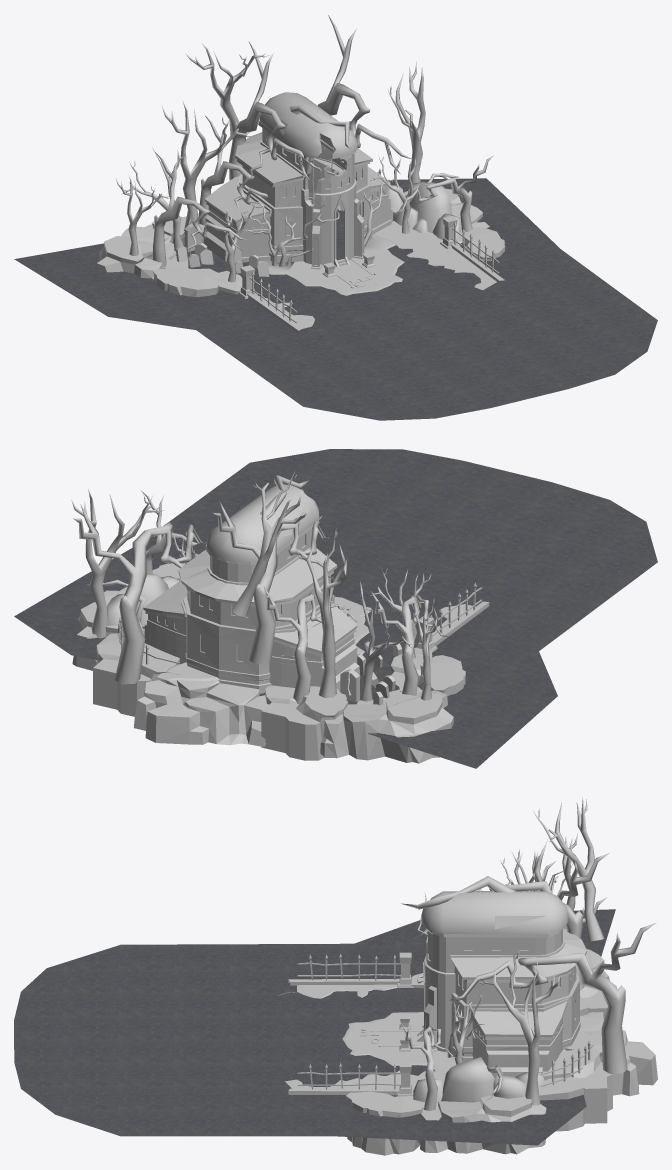
Rendered from jifendixia_boss_03.FBX.
The picture shows the model from 3 angles, top to bottom: view 1: azimuth 30°, elevation 25°; view 2: azimuth 150°, elevation 25°; view 3: azimuth 270°, elevation 25°; orthographic projection. The views are drawn at different scales.
Parts seen in each view (by area): view 1: jifendixia_boss_03a, jifendixia_boss_03b, jifendixia_boss_03c; view 2: jifendixia_boss_03a, jifendixia_boss_03c, jifendixia_boss_03b; view 3: jifendixia_boss_03a, jifendixia_boss_03b, jifendixia_boss_03c.
Part boxes in pixels (<box>): jifendixia_boss_03a: <box>14,178,657,420</box>; jifendixia_boss_03b: <box>153,92,505,333</box>; jifendixia_boss_03c: <box>96,15,505,296</box>; jifendixia_boss_03a: <box>14,449,657,768</box>; jifendixia_boss_03c: <box>71,472,465,763</box>; jifendixia_boss_03b: <box>118,485,489,705</box>; jifendixia_boss_03a: <box>14,909,615,1145</box>; jifendixia_boss_03b: <box>278,891,593,1096</box>; jifendixia_boss_03c: <box>346,798,657,1155</box>.
Bounding box in the file's own units: 7458 × 3568 × 8592.
